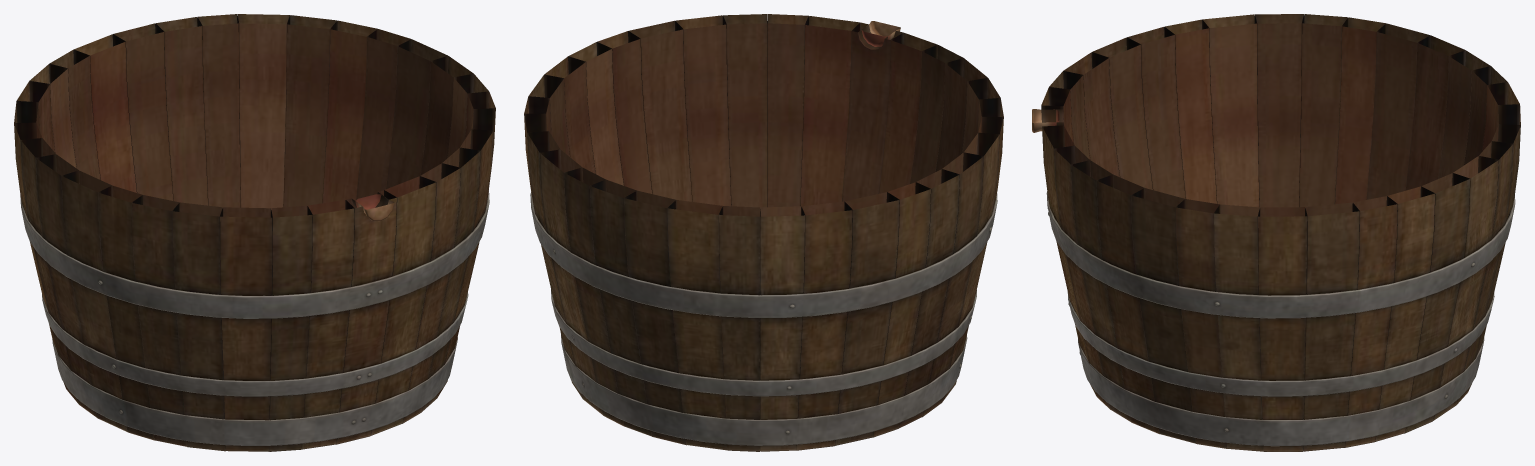
File: half_barrel.glb
3 views of the same model, side by side, from view 1: azimuth 30°, elevation 25°; view 2: azimuth 150°, elevation 25°; view 3: azimuth 270°, elevation 25° (orthographic).
Visible parts, largest first — view 1: wine_barrel_01; view 2: wine_barrel_01; view 3: wine_barrel_01.
Boxes of the visible parts, x1,y1,x2,y2 form: wine_barrel_01: [14, 14, 495, 451]; wine_barrel_01: [524, 14, 1003, 451]; wine_barrel_01: [1032, 14, 1520, 451].
Size of the model in its own units: 0.66 by 0.3875 by 0.6726.
1 material, 1 textured.
